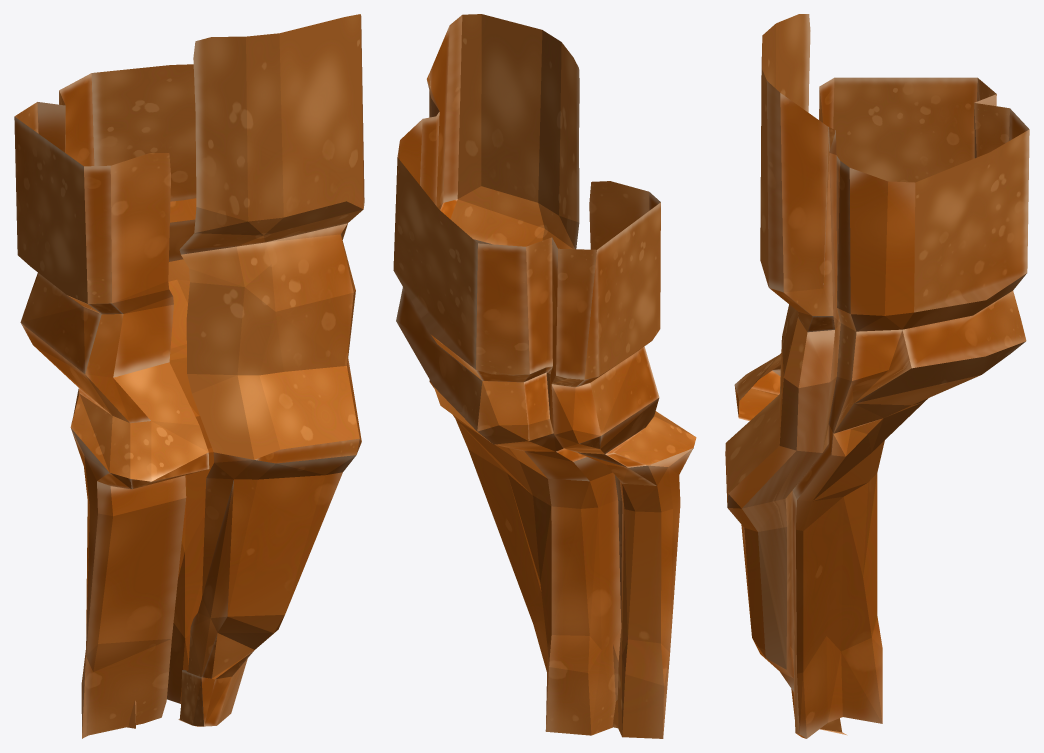
File: CANYON_.fbx
The picture shows the model from 3 angles, left to right: view 1: azimuth 30°, elevation 25°; view 2: azimuth 150°, elevation 25°; view 3: azimuth 270°, elevation 25°; orthographic projection. The views are drawn at different scales.
Parts seen in each view (by area): view 1: Plane.004; view 2: Plane.004; view 3: Plane.004.
Part boxes in pixels (box(x1,y1,x2,y2)): Plane.004: box(14, 14, 364, 738); Plane.004: box(393, 14, 696, 738); Plane.004: box(725, 14, 1029, 738).
Bounding box in the file's own units: 10924 × 28101 × 10591.
Materials: 1 (1 with a texture image).
